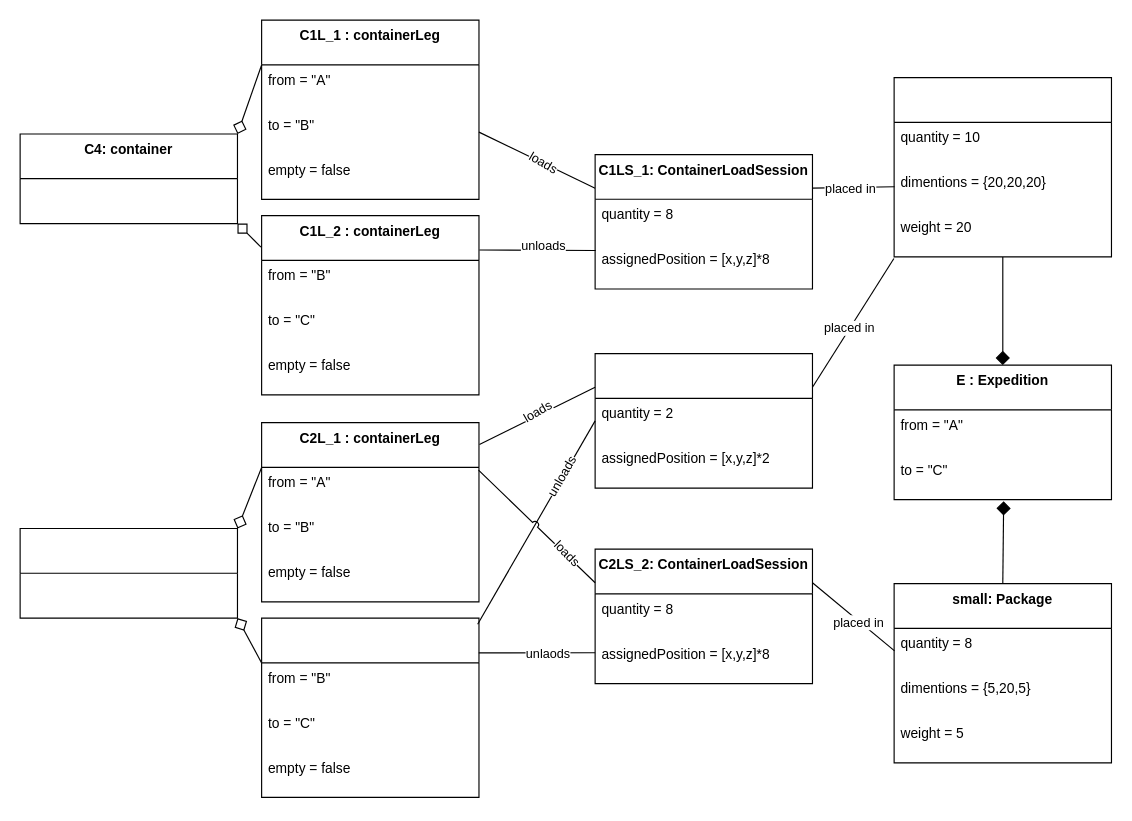
The diagram is 1132 pixels wide and 821 high, and some of its shapes have lost their labels. Here are the shapes that lost their labels. From the top down, the box of each, then its label:
(893, 76, 1111, 257): big: Package
(594, 352, 812, 488): C2LS_1: ContainerLoadSession
(19, 527, 237, 618): C5: container
(260, 617, 479, 797): C2L_2 : containerLeg
